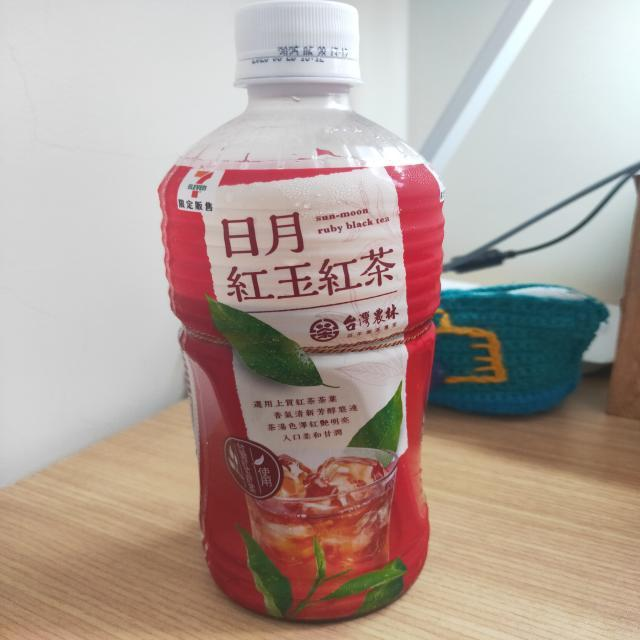RiYue_BlackTea: (142, 1, 456, 628)
